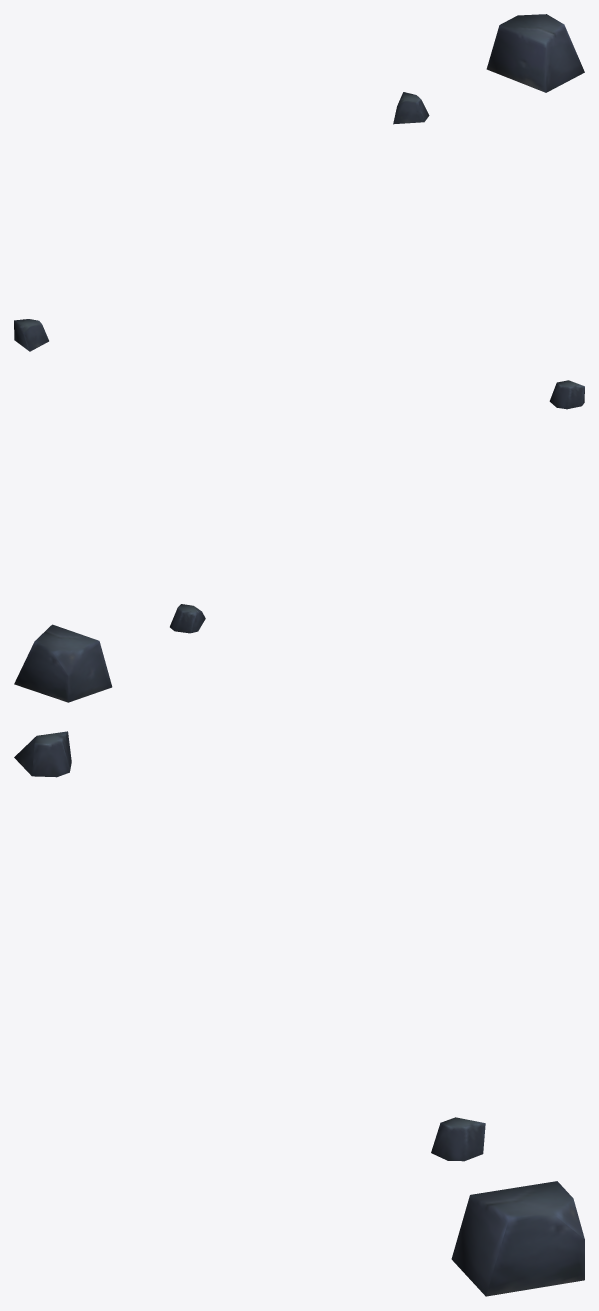
File: Area_15_39.fbx
3 views of the same model, one above another, from view 1: azimuth 30°, elevation 25°; view 2: azimuth 210°, elevation 25°; view 3: azimuth 270°, elevation 25° (orthographic). The views are drawn at different scales.
Visible parts, largest first — view 1: Area_15_39; view 2: Area_15_39; view 3: Area_15_39.
Part boxes in pixels (x1=…): Area_15_39: x1=14, y1=14, x2=584, y2=351; Area_15_39: x1=14, y1=380, x2=584, y2=702; Area_15_39: x1=14, y1=731, x2=584, y2=1296.
Size of the model in its own units: 1103 by 67.51 by 504.
